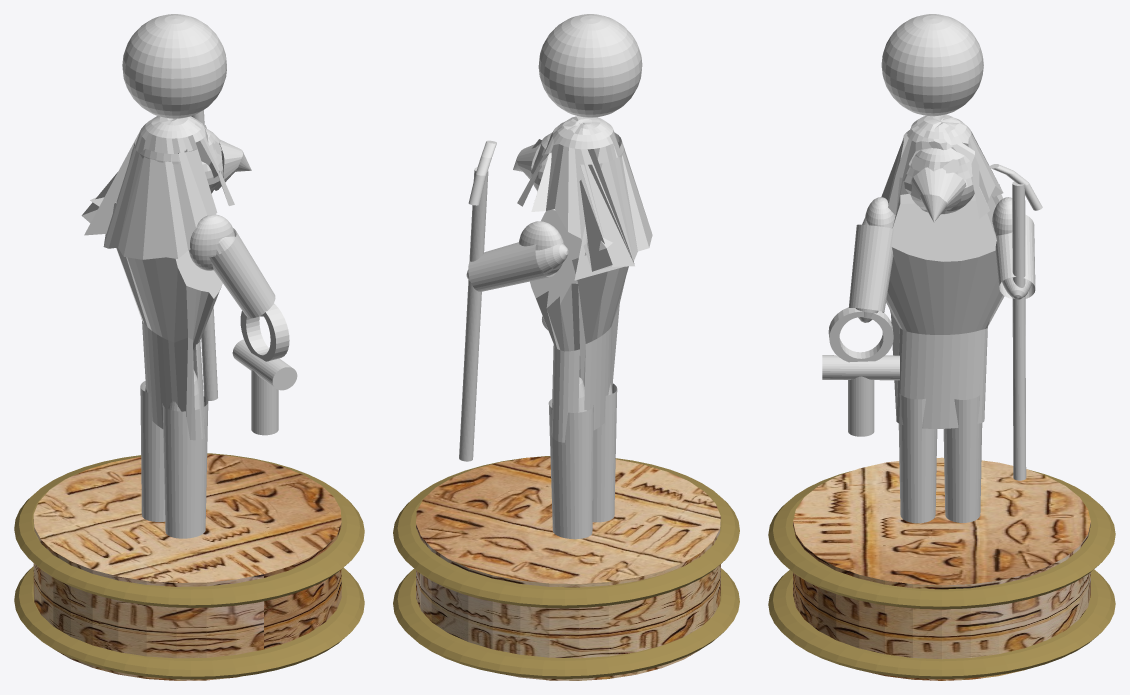
File: raa.fbx
3 renders of one model, left to right at view 1: azimuth 30°, elevation 25°; view 2: azimuth 150°, elevation 25°; view 3: azimuth 270°, elevation 25°, orthographic. The views are drawn at different scales.
Parts seen in each view (by area): view 1: Cylinder, Sphere.007, Cone, Sphere.008, Sphere, Sphere.002, Sphere.001, Cylinder.006, Sphere.004, Cylinder.005, Cylinder.007, Cylinder.001 (+2 smaller); view 2: Cylinder, Sphere.007, Cone, Sphere.008, Sphere.001, Cylinder.001, Sphere.003, Sphere, Sphere.005, Cone.001; view 3: Cylinder, Cone, Sphere.008, Sphere.007, Cylinder.001, Sphere, Sphere.001, Sphere.002, Cone.001, Sphere.003, Cylinder.006, Cylinder.007 (+4 smaller).
Part boxes in pixels (left/top/right/bottom): Cylinder: left=14, top=453, right=364, bottom=680; Sphere.007: left=81, top=116, right=234, bottom=259; Cone: left=90, top=197, right=222, bottom=440; Sphere.008: left=122, top=14, right=226, bottom=118; Sphere: left=162, top=369, right=208, bottom=538; Sphere.002: left=209, top=228, right=275, bottom=317; Sphere.001: left=140, top=381, right=165, bottom=521; Cylinder.006: left=240, top=303, right=289, bottom=361; Sphere.004: left=188, top=214, right=234, bottom=270; Cylinder.005: left=251, top=370, right=278, bottom=435; Cylinder.007: left=232, top=339, right=297, bottom=390; Cylinder.001: left=191, top=110, right=217, bottom=400; Cylinder: left=393, top=456, right=739, bottom=680; Sphere.007: left=517, top=116, right=652, bottom=280; Cone: left=530, top=209, right=628, bottom=442; Sphere.008: left=538, top=14, right=642, bottom=117; Sphere.001: left=548, top=377, right=593, bottom=539; Cylinder.001: left=459, top=140, right=496, bottom=461; Sphere.003: left=466, top=242, right=568, bottom=291; Sphere: left=592, top=383, right=617, bottom=522; Sphere.005: left=519, top=221, right=564, bottom=276; Cone.001: left=513, top=143, right=540, bottom=179; Cylinder: left=768, top=457, right=1115, bottom=680; Cone: left=886, top=184, right=1004, bottom=428; Sphere.008: left=881, top=14, right=983, bottom=116; Sphere.007: left=881, top=114, right=1003, bottom=218; Cylinder.001: left=989, top=164, right=1042, bottom=480; Sphere: left=898, top=393, right=937, bottom=523; Sphere.001: left=943, top=395, right=982, bottom=522; Sphere.002: left=848, top=217, right=893, bottom=322; Cone.001: left=910, top=167, right=966, bottom=222; Sphere.003: left=995, top=214, right=1035, bottom=299; Cylinder.006: left=828, top=307, right=893, bottom=362; Cylinder.007: left=822, top=355, right=899, bottom=380.
Bounding box in the file's own units: 157 × 300 × 160.
